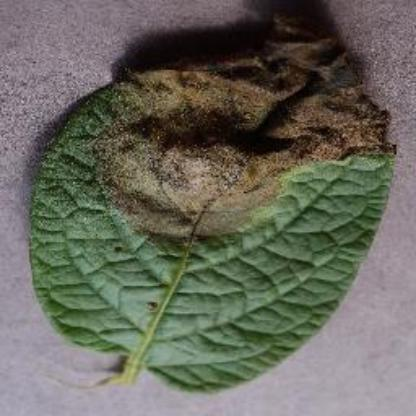Late-Blight: (25, 12, 401, 408)
